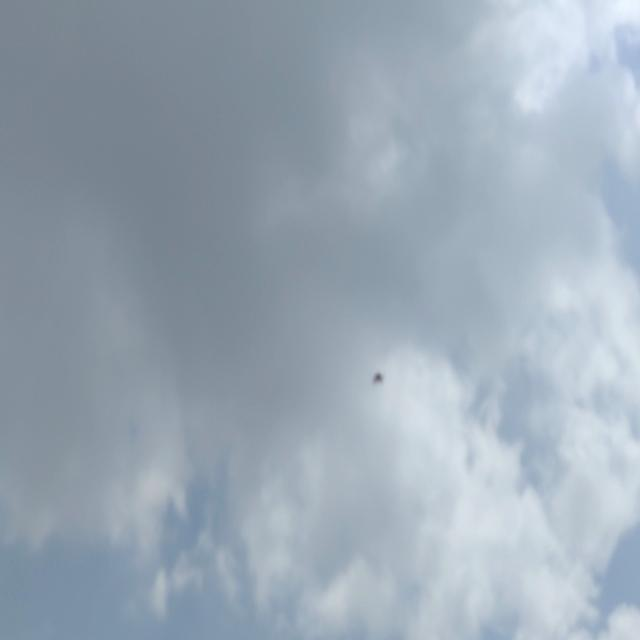drone: (369, 367, 390, 392)
